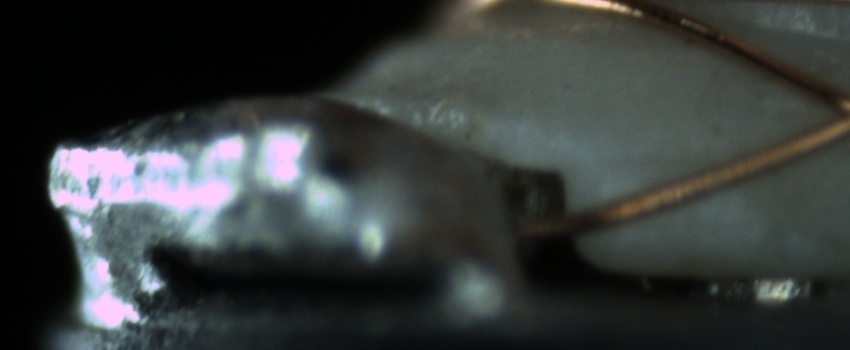CL: (798, 71, 850, 152)
